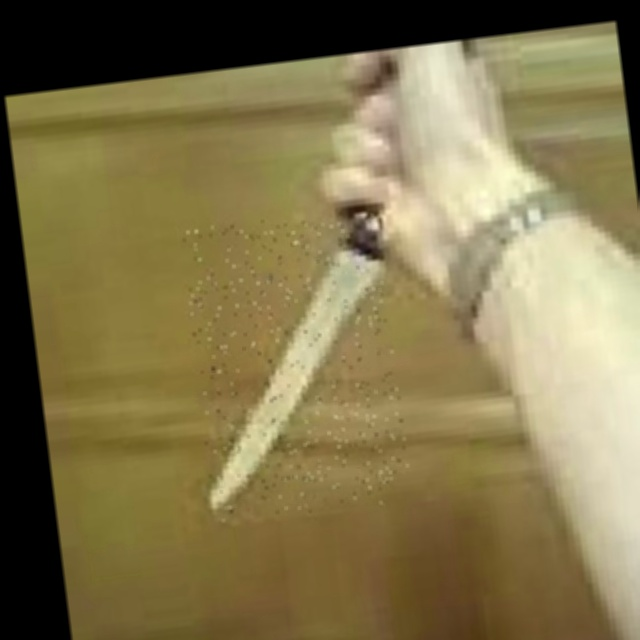Sharp-Object: (179, 206, 413, 525)
